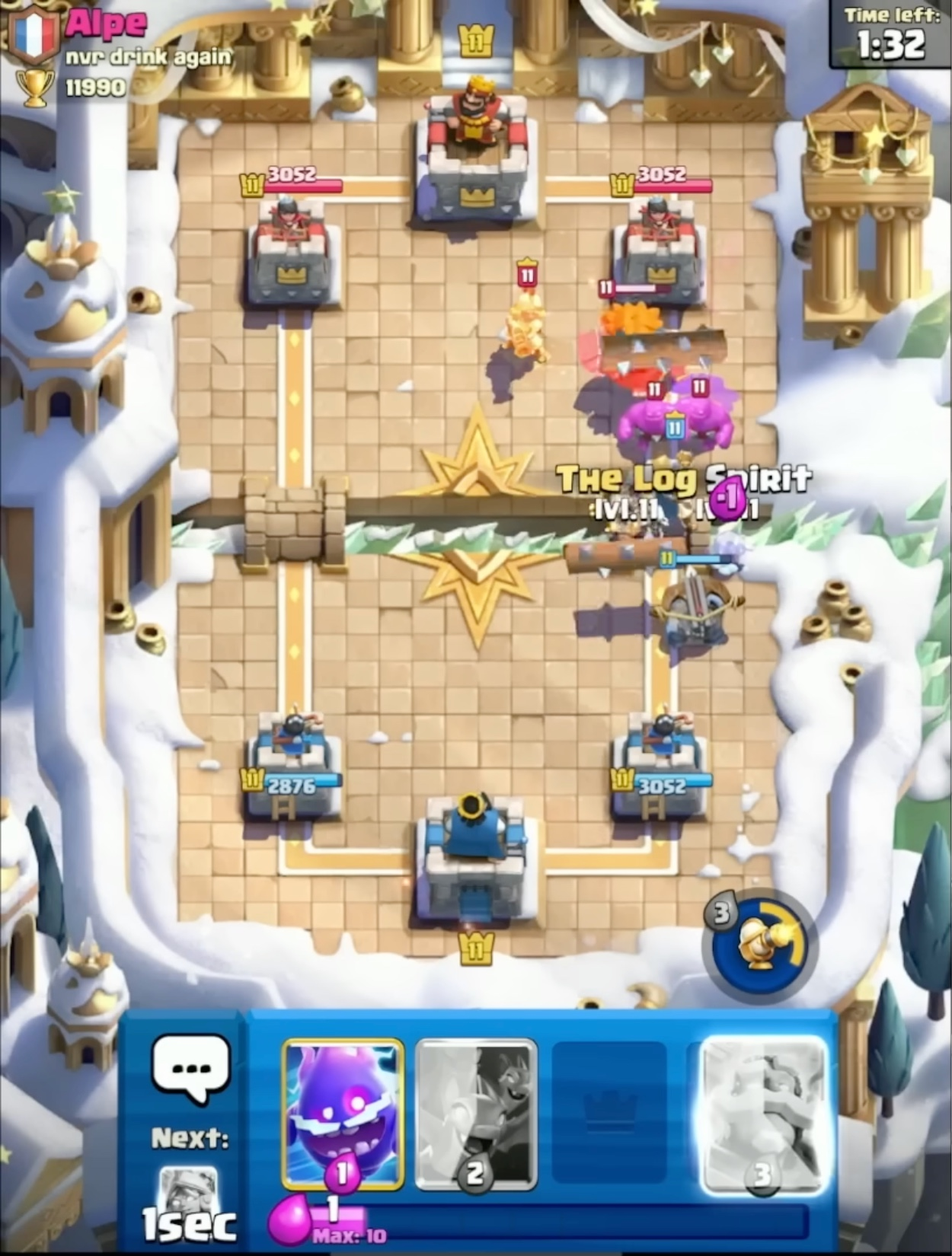hero-musketeer: (495, 257, 553, 373)
